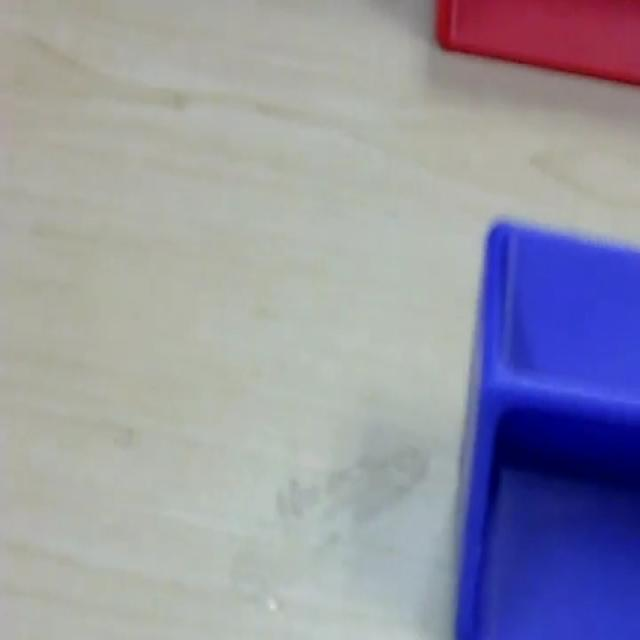blue_block: (452, 213, 638, 636)
red_block: (433, 0, 638, 85)
